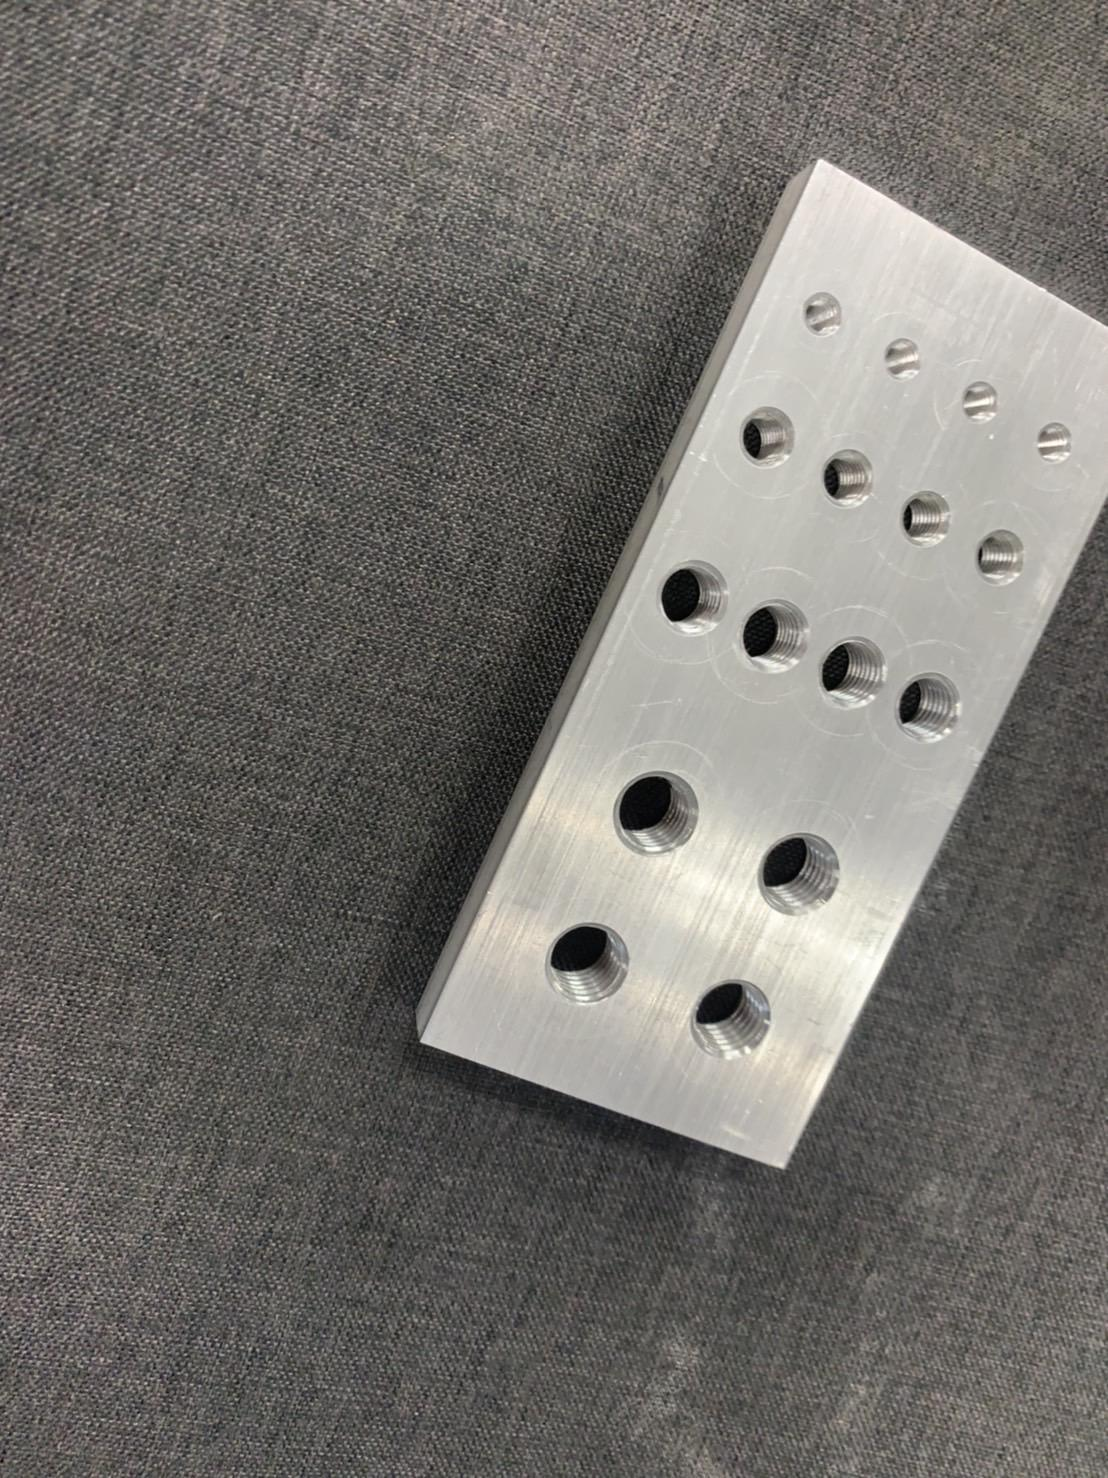hole: (754, 827, 850, 931), (611, 765, 709, 859), (683, 973, 774, 1063), (542, 919, 632, 1009), (739, 590, 821, 682), (892, 663, 974, 753), (812, 634, 894, 717), (655, 561, 733, 644), (815, 443, 881, 520), (730, 399, 802, 469), (890, 479, 956, 556), (967, 523, 1027, 596), (1031, 417, 1084, 472), (953, 374, 1004, 431), (800, 286, 848, 344), (882, 334, 930, 383)
